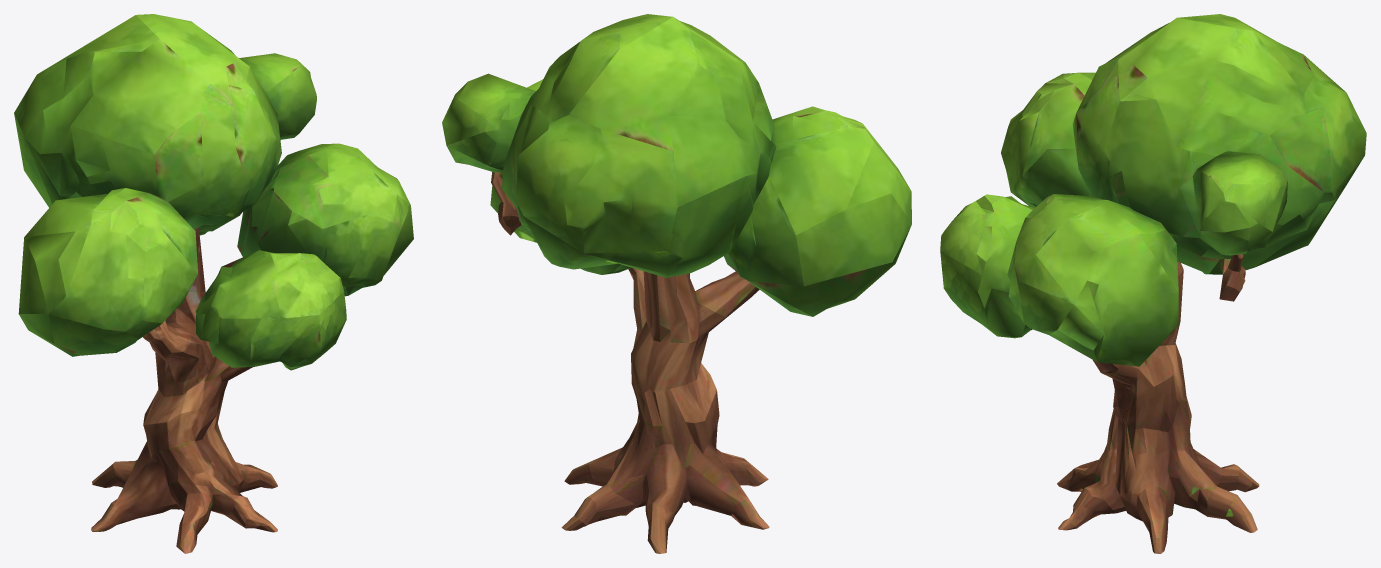
File: meadow_oak.glb
3 views of the same model, side by side, from view 1: azimuth 30°, elevation 25°; view 2: azimuth 150°, elevation 25°; view 3: azimuth 270°, elevation 25° (orthographic). The views are drawn at different scales.
Size of the model in its own units: 1.62 by 1.9 by 1.52.
Materials: 1 (1 with a texture image).
